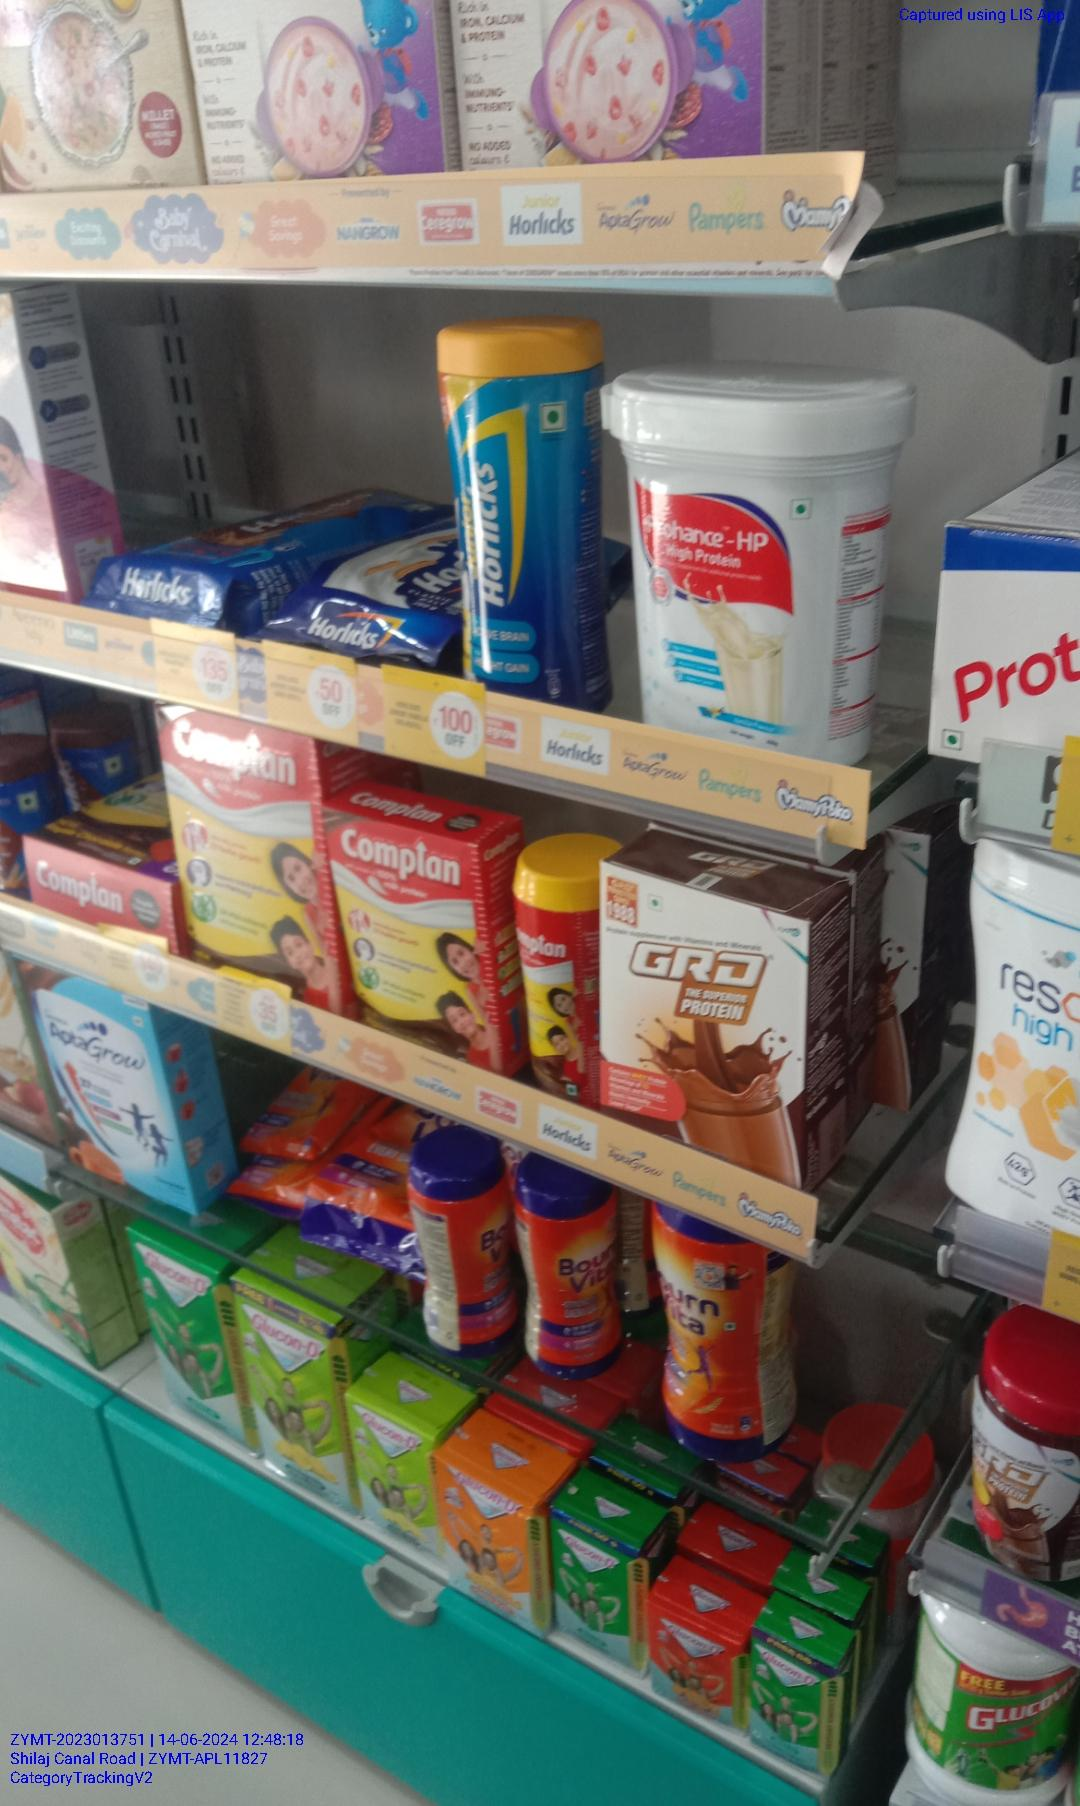BOURN_VITA_200_G_JAR: (519, 1167, 622, 1382)
BOURN_VITA_500_G_JAR: (648, 1202, 778, 1464)
COMPLAN_CHOCOLATE_200_GMS_JAR: (512, 843, 590, 1089)
COMPLAN_CHOCOLATE_200_GMS_PACK: (342, 809, 481, 1024)
COMPLAN_CHOCOLATE_500_GMS_PACK: (172, 711, 327, 1001)
HORLICKS_JUNIOR_VANILLA_500_GM_JAR: (437, 330, 597, 685)
